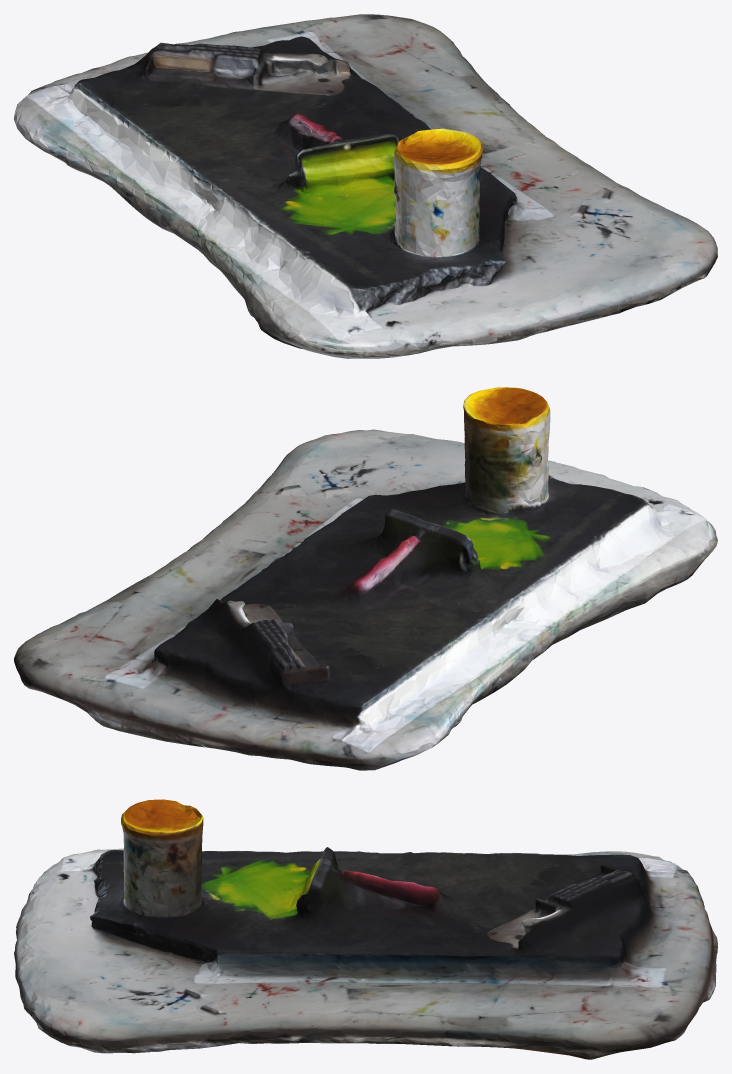
Rendered from ink.glb.
3 renders of one model, top to bottom at view 1: azimuth 30°, elevation 25°; view 2: azimuth 150°, elevation 25°; view 3: azimuth 270°, elevation 25°, orthographic. The views are drawn at different scales.
Visible parts, largest first — view 1: ink; view 2: ink; view 3: ink.
Boxes of the visible parts, x1,y1,x2,y2 form: ink: [14, 14, 717, 358]; ink: [14, 387, 717, 770]; ink: [14, 799, 717, 1059].
Size of the model in its own units: 10.2 by 3.51 by 15.55.
1 material, 1 textured.
